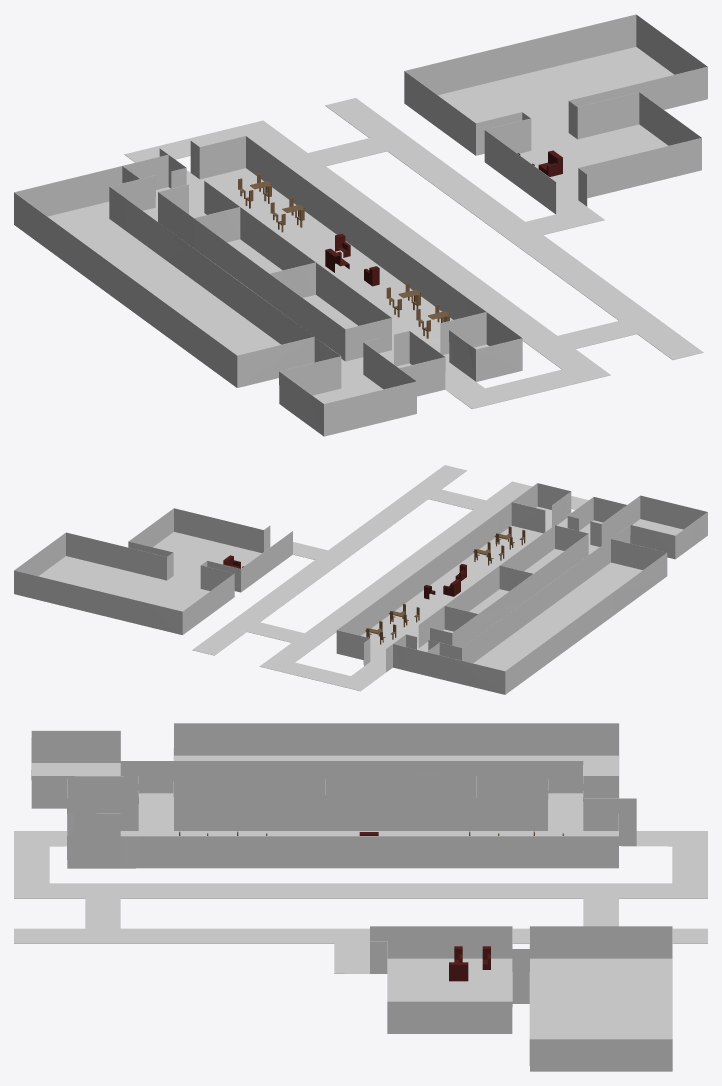
Rendered from Devon_04.dae.
The picture shows the model from 3 angles, top to bottom: view 1: azimuth 30°, elevation 25°; view 2: azimuth 150°, elevation 25°; view 3: azimuth 270°, elevation 25°; orthographic projection. The views are drawn at different scales.
Parts seen in each view (by area): view 1: Map; view 2: Map; view 3: Map.
Boxes of the visible parts, x1,y1,x2,y2 form: Map: [14, 14, 707, 436]; Map: [14, 465, 707, 694]; Map: [14, 723, 707, 1071].
Bounding box in the file's own units: 42.03 × 39 × 2.02.
